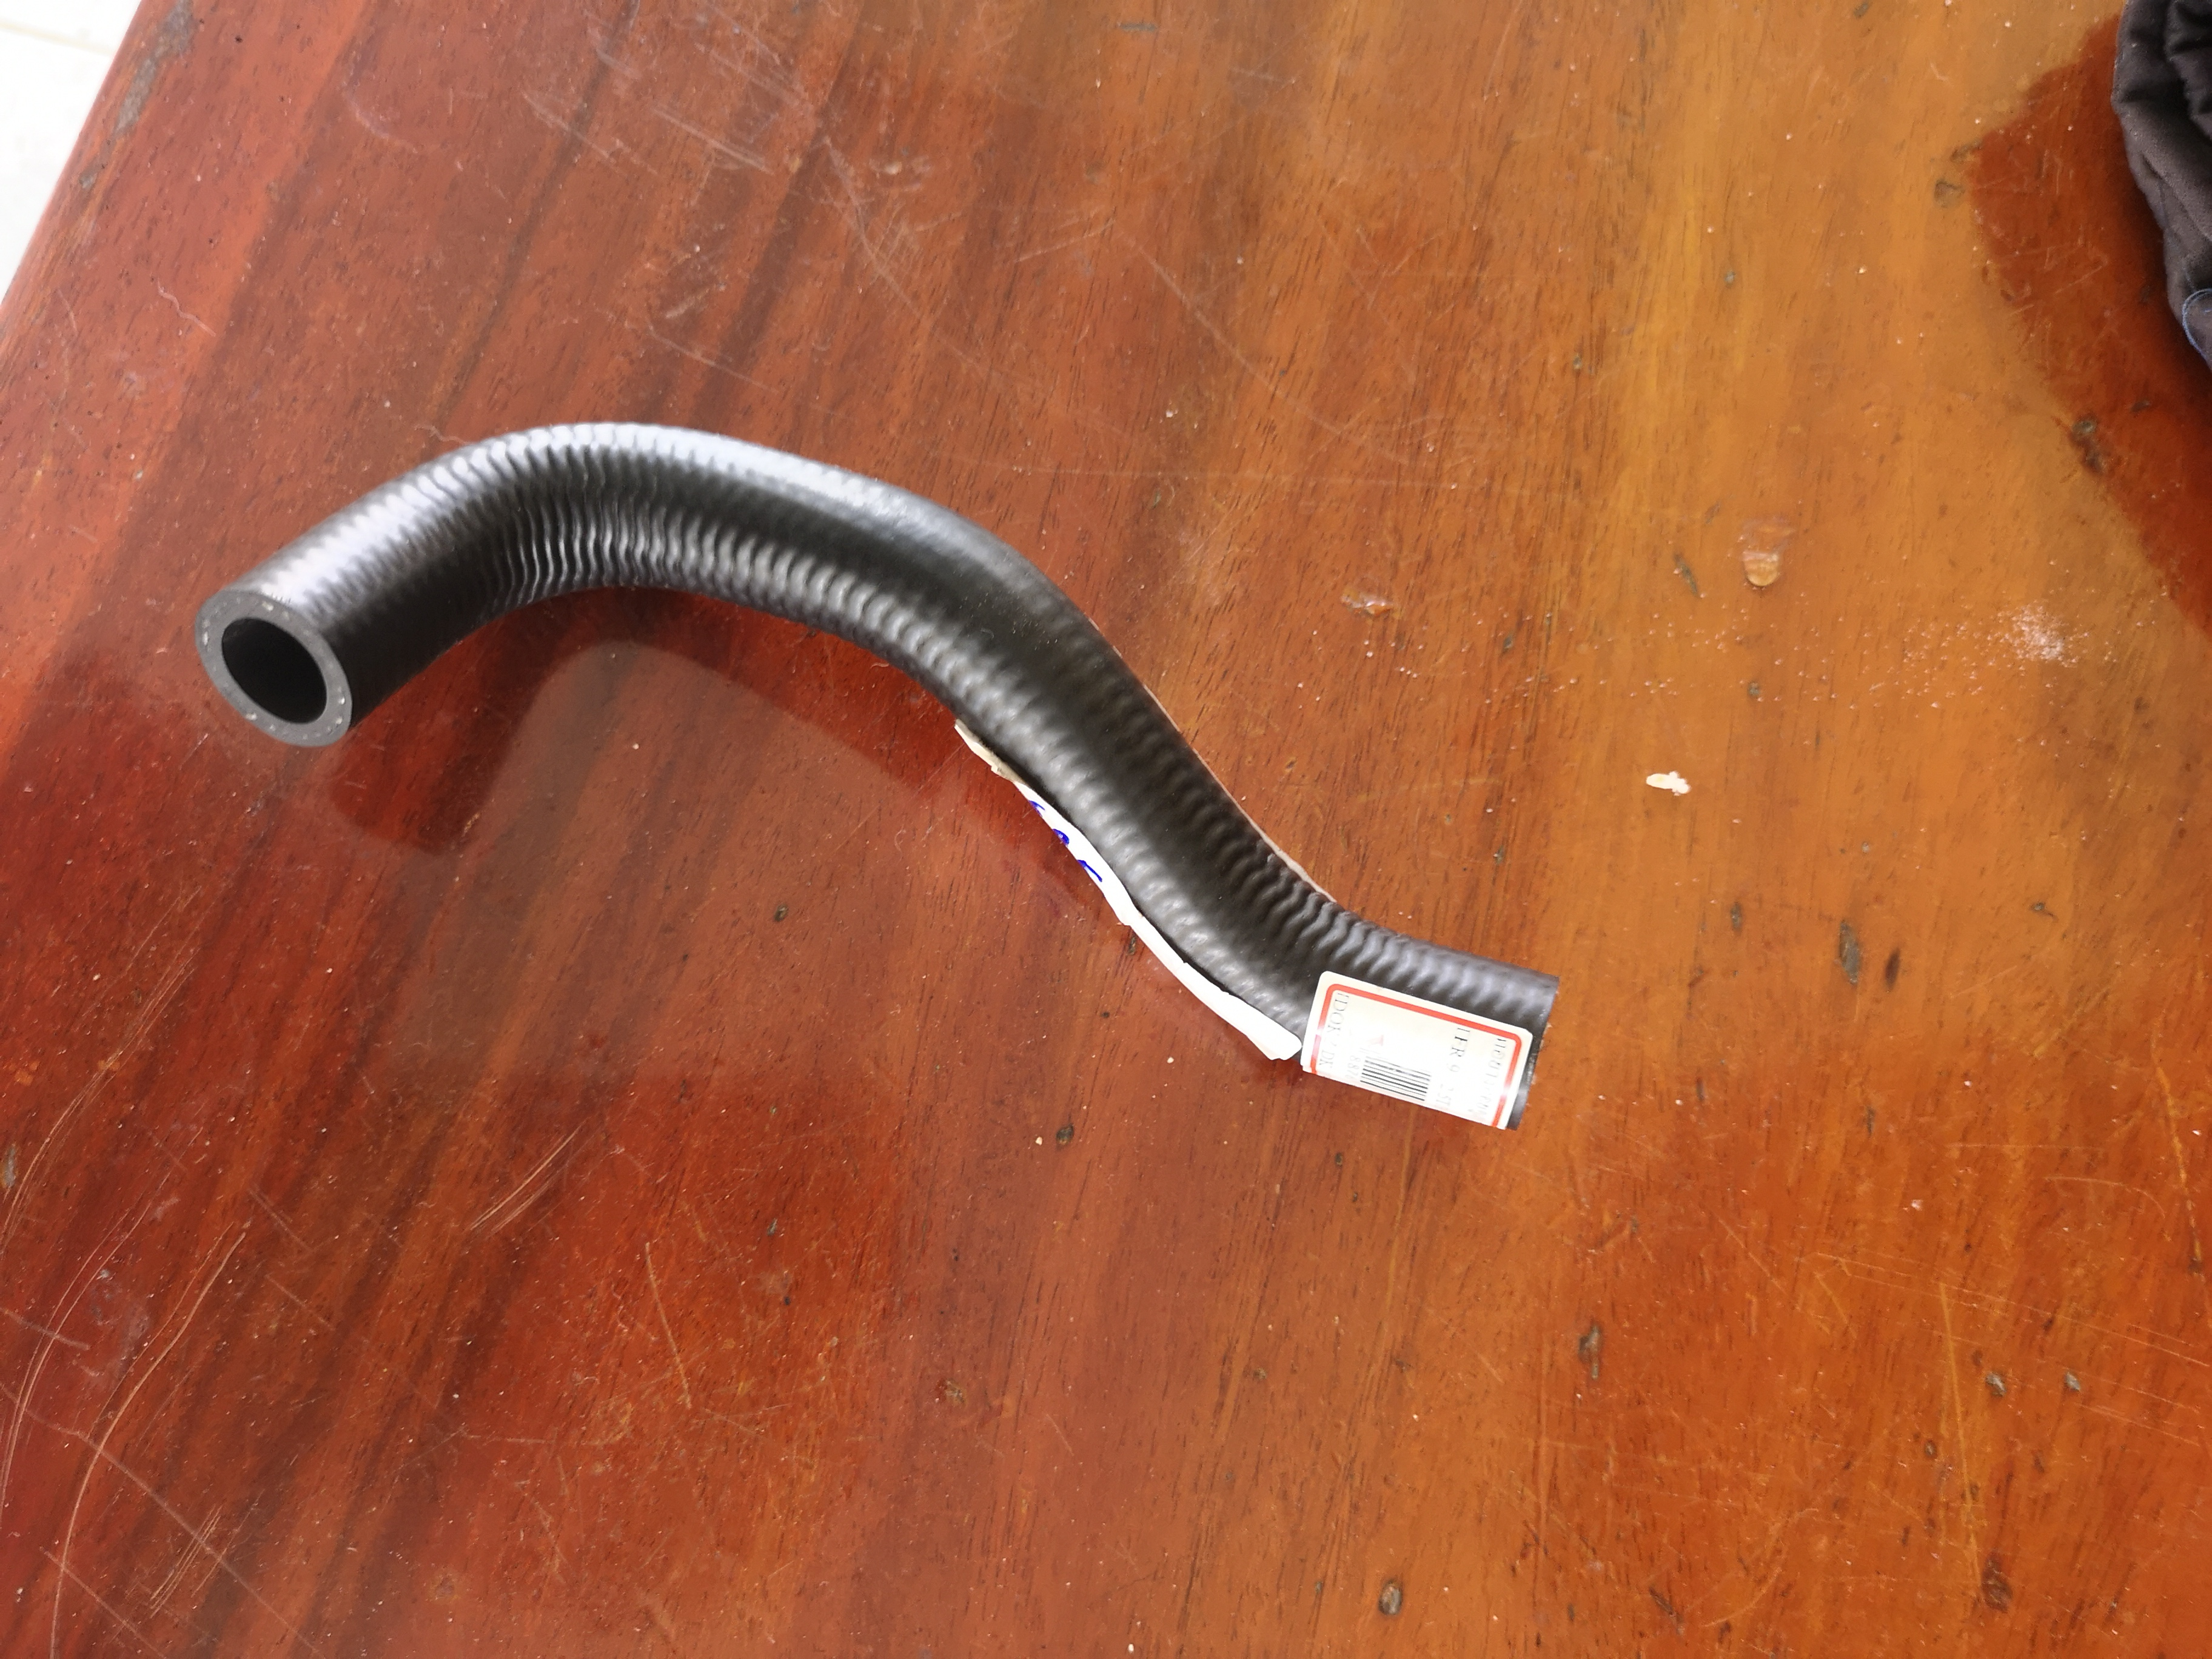ท่อยางน้ำมันเลี้ยงเทอร์โบ: (178, 350, 1655, 1136)
